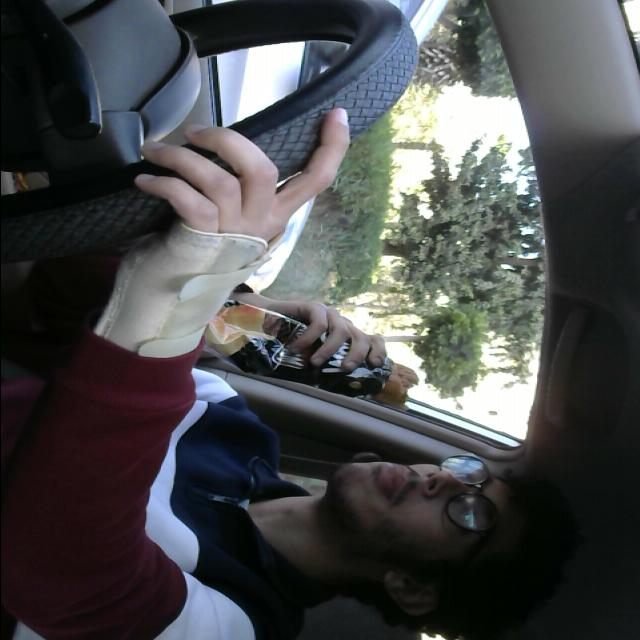eating: (163, 292, 419, 414)
